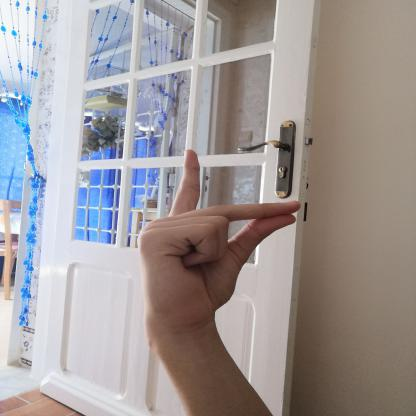TAA: (129, 141, 313, 341)
